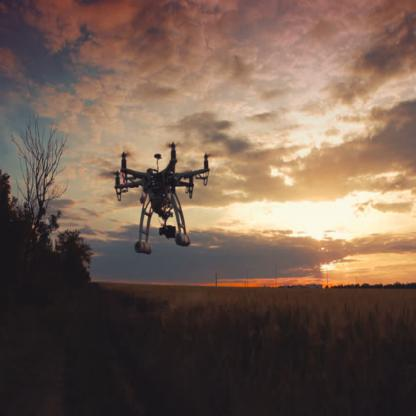drone: (99, 141, 219, 217)
